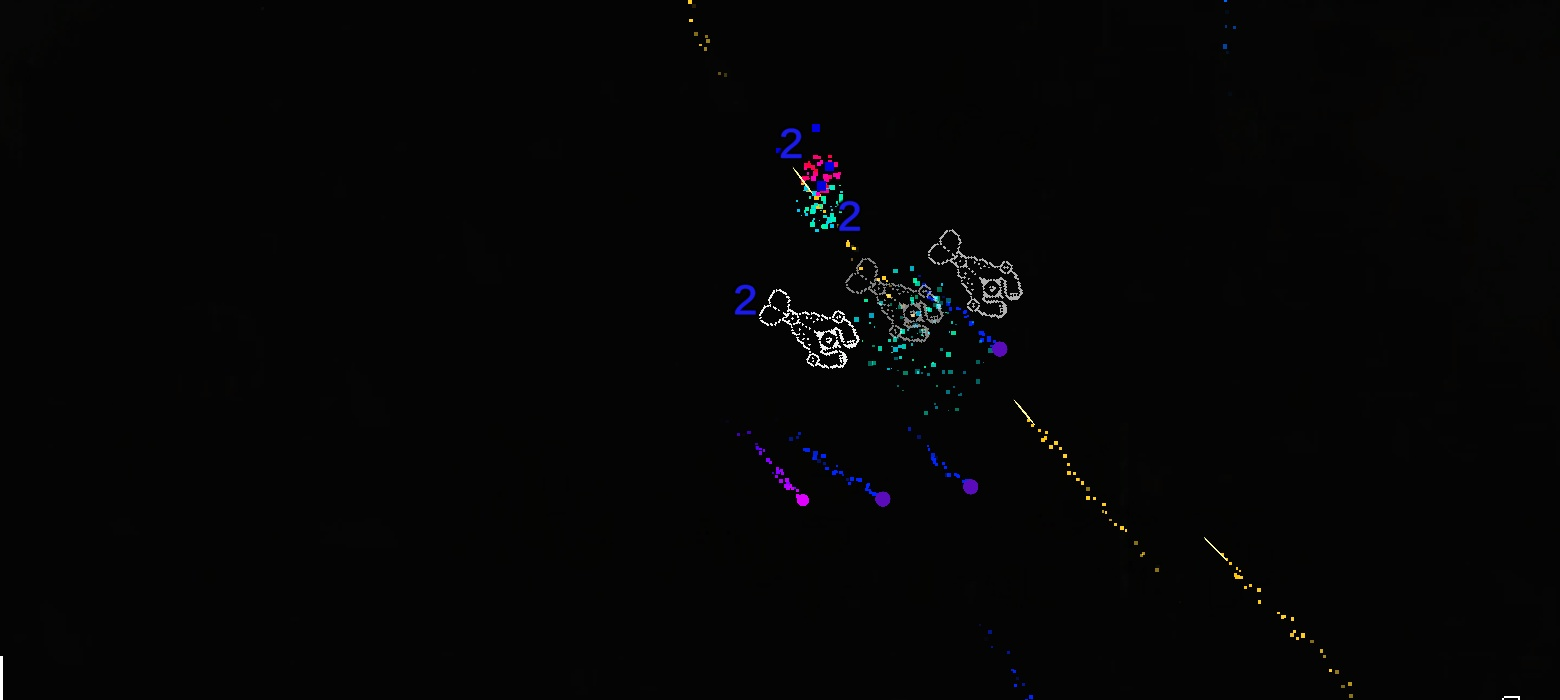enemy: (844, 257, 944, 343), (928, 229, 1023, 319), (758, 288, 860, 370)
